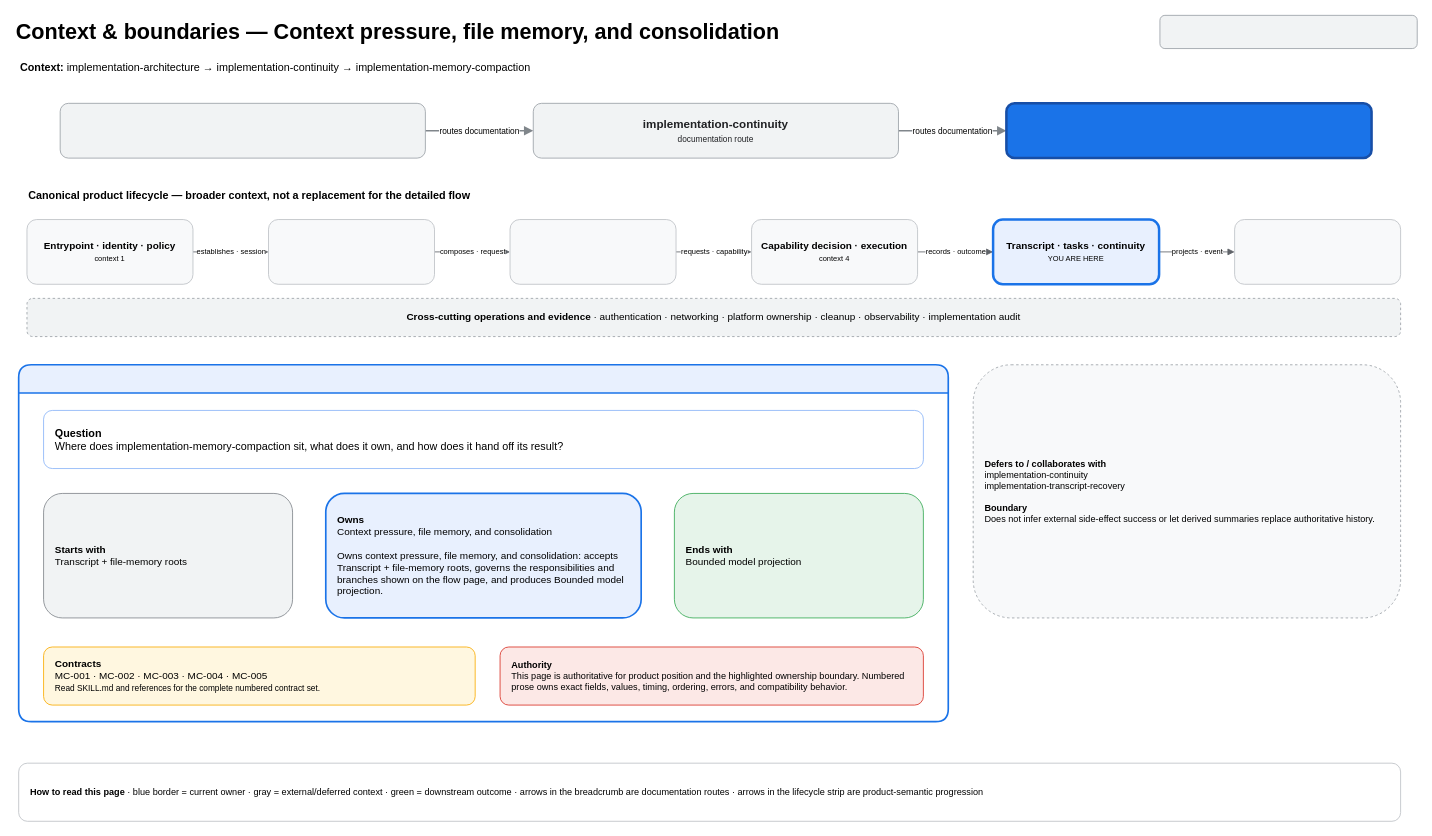
This 1432x836 diagram has some shape labels left out. Each missing label, with the box of its shape:
architecture overview · template 2.0-context-flow: (1159, 15, 1417, 49)
CURRENT OWNERSHIP BOUNDARY: (17, 364, 949, 722)
implementation-architecture documentation route: (59, 103, 425, 158)
implementation-memory-compaction YOU ARE HERE: (1005, 102, 1372, 159)
Query engine · model stream context 3: (509, 219, 676, 284)
Session state · registries · context context 2: (268, 219, 435, 284)
Surface · remote projection context 6: (1234, 219, 1401, 284)
